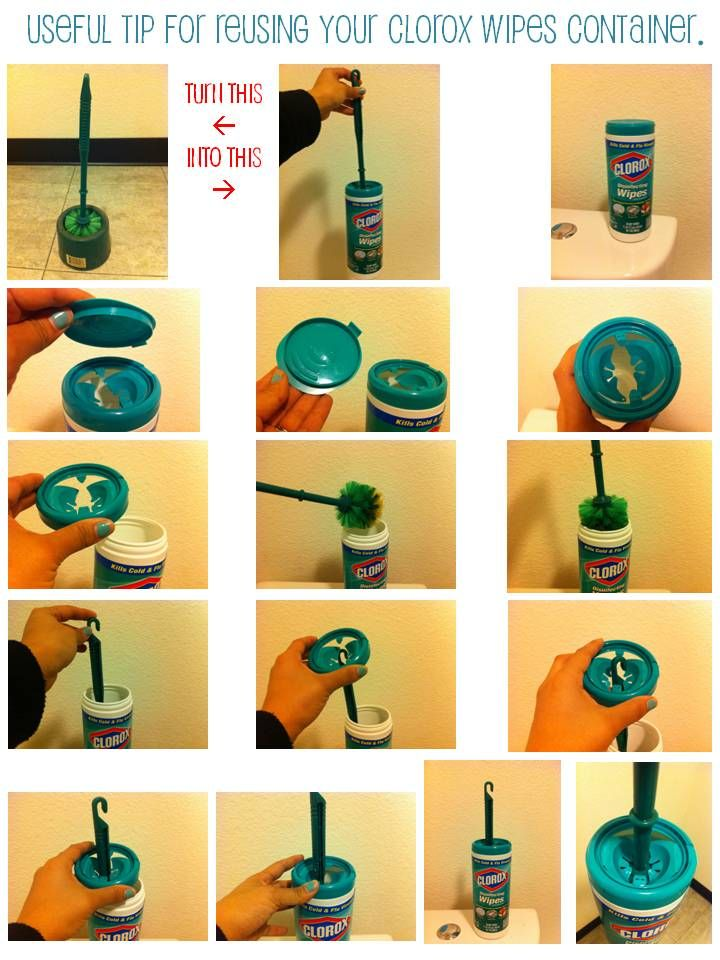Wipes: (46, 289, 171, 433), (601, 112, 664, 247), (360, 348, 449, 432), (466, 833, 517, 941), (338, 175, 390, 276), (576, 517, 634, 590), (334, 523, 395, 588)
